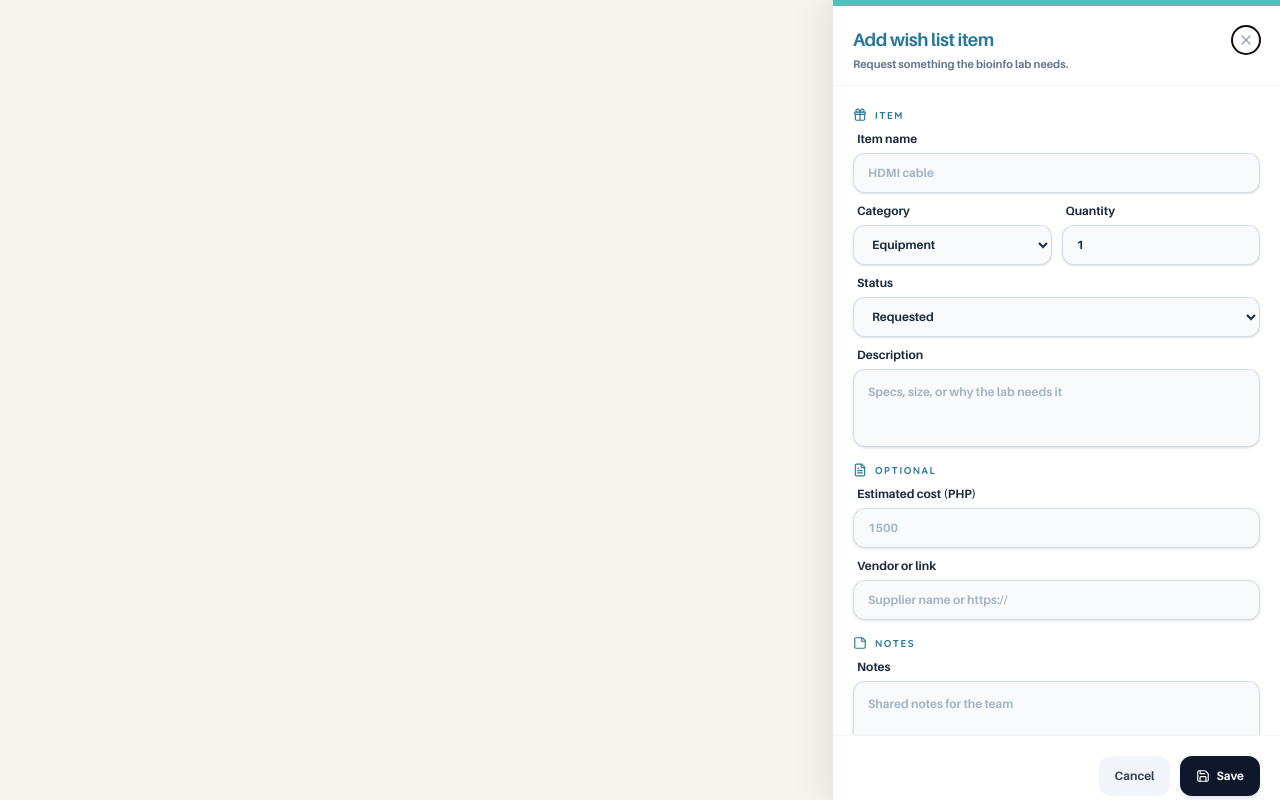
Scenario: WishlistModal › requires an item name when staff add a request
The width and height of the screenshot is (1280, 800).
Click the button "Save" at (1220, 776), box top-left (1180, 756), bottom-right (1260, 796)
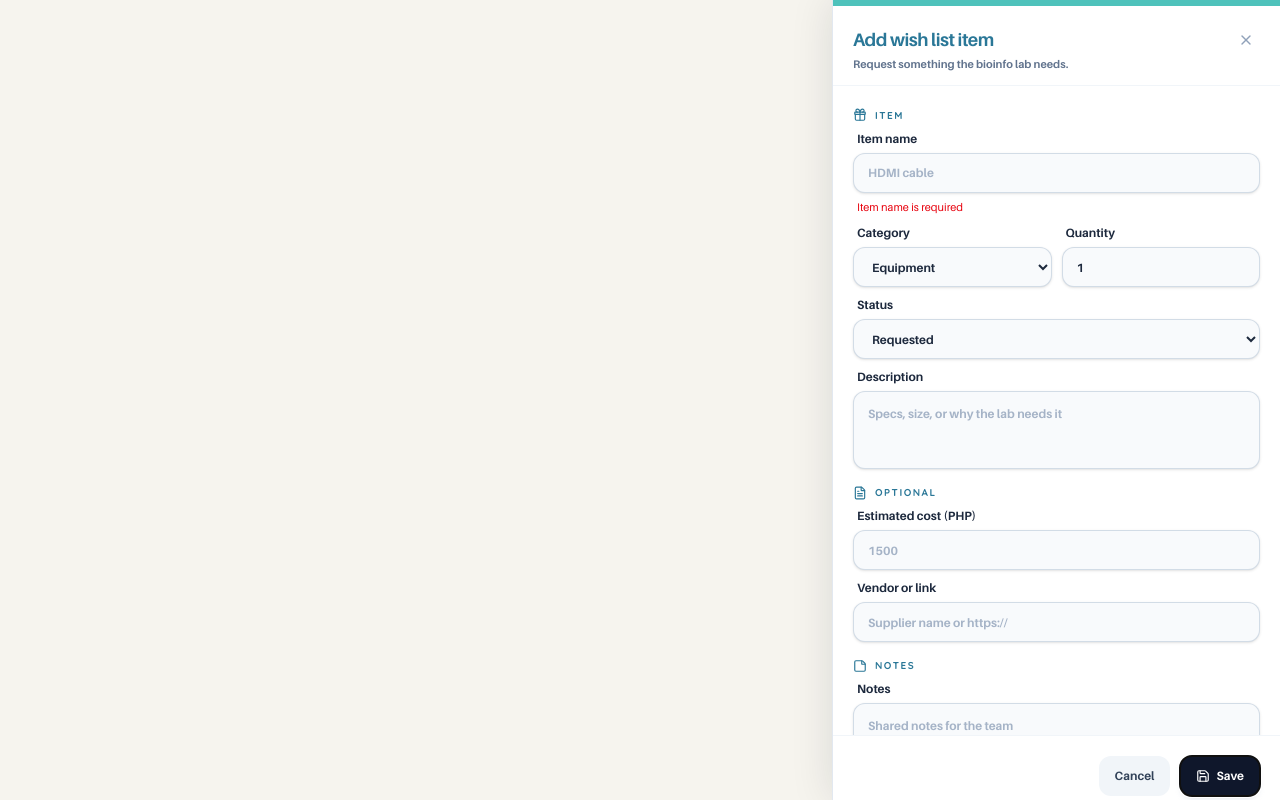
Check: the text "Item name is required" is shown, box top-left (857, 200), bottom-right (963, 214)
